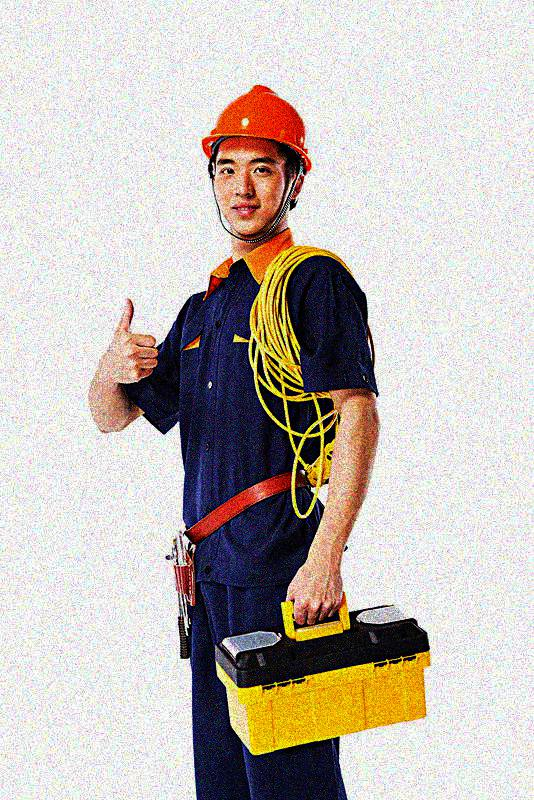helmet: (199, 83, 313, 237)
